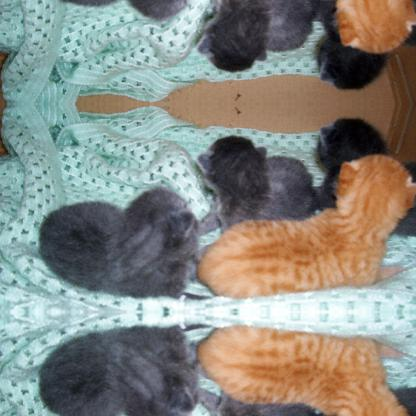Cat: (193, 152, 415, 288), (193, 334, 416, 415), (38, 185, 196, 294), (38, 327, 197, 415), (193, 0, 416, 54), (200, 128, 314, 233), (316, 115, 414, 235), (315, 0, 415, 92), (199, 0, 315, 78), (199, 388, 315, 415), (315, 387, 415, 415)
